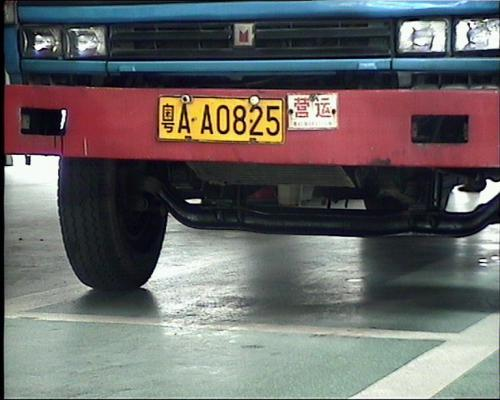Carplate: (151, 85, 287, 152)
